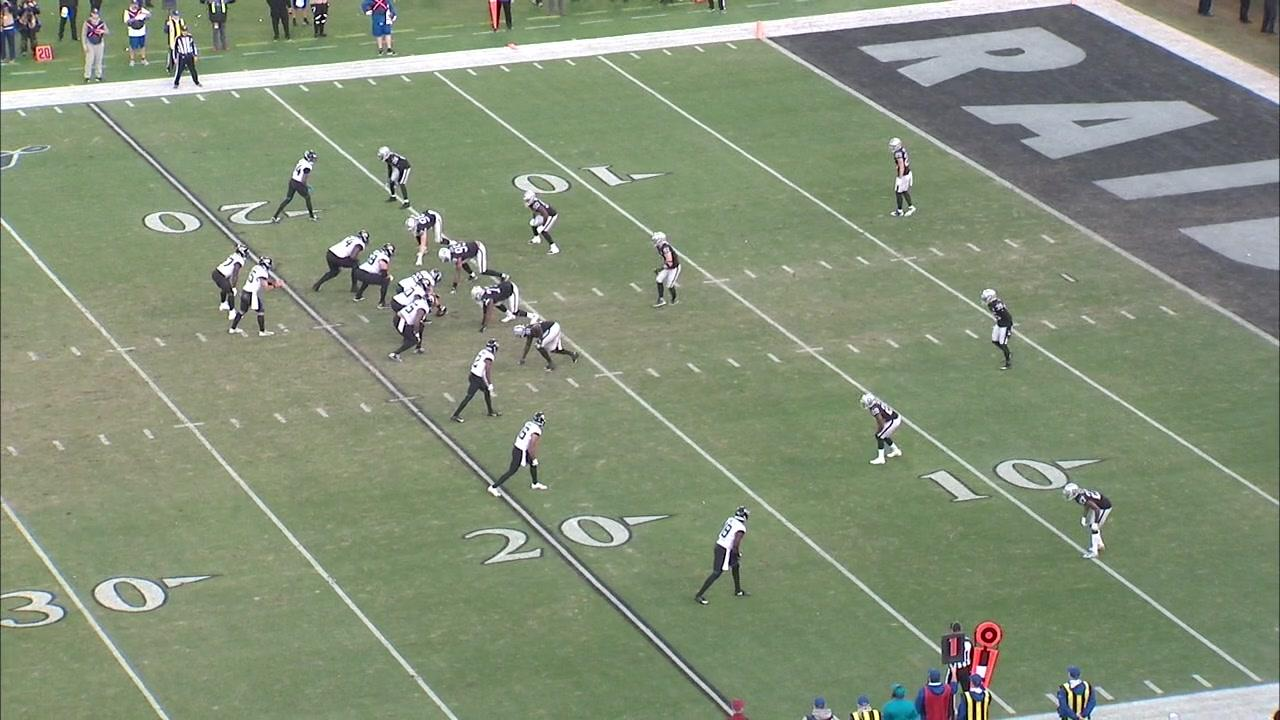player: (684, 500, 758, 613), (478, 409, 554, 507), (848, 383, 911, 472), (224, 247, 281, 341), (1060, 477, 1118, 568), (447, 335, 501, 430), (271, 139, 324, 231), (970, 288, 1026, 371), (308, 228, 367, 298), (465, 279, 539, 331), (509, 324, 584, 374), (888, 131, 923, 227), (643, 229, 684, 309), (390, 297, 438, 363), (356, 238, 401, 306), (520, 186, 560, 258), (211, 244, 251, 315), (375, 147, 417, 214), (401, 207, 450, 261), (438, 241, 507, 279), (393, 267, 447, 295), (389, 280, 429, 313)
ref: (166, 19, 206, 100)
